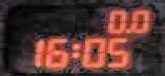-: (123, 25, 129, 32)
0: (81, 35, 103, 66), (131, 9, 148, 33), (106, 9, 123, 31)
1: (33, 36, 43, 65)
5: (104, 37, 128, 67)
6: (43, 35, 68, 68)
X: (70, 40, 80, 57)
